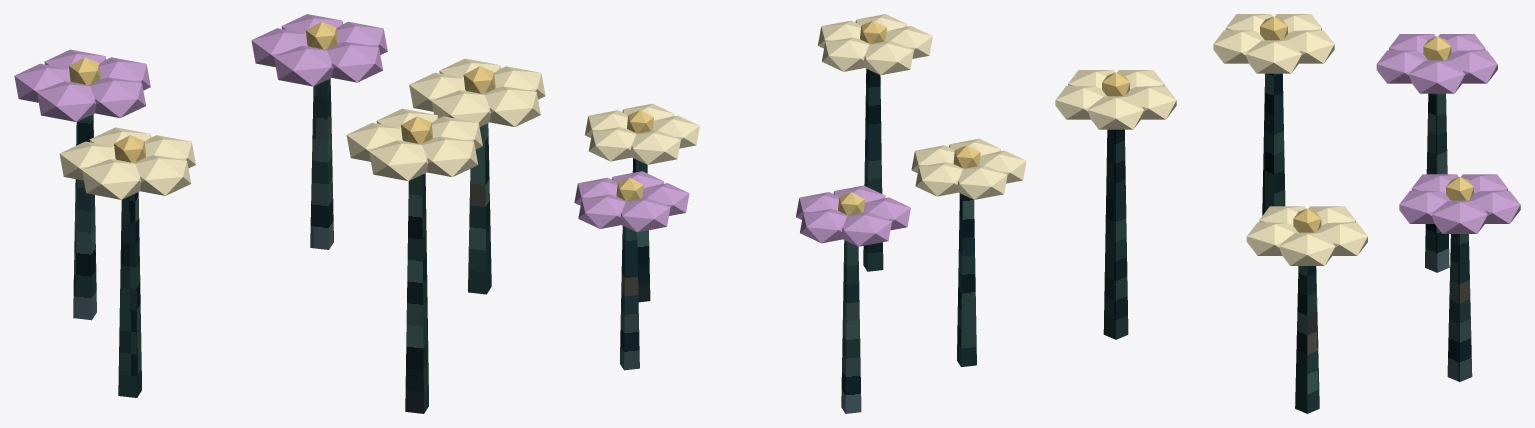
The model's file is enfeite_flores.fbx.
The picture shows the model from 3 angles, left to right: view 1: azimuth 30°, elevation 25°; view 2: azimuth 150°, elevation 25°; view 3: azimuth 270°, elevation 25°; orthographic projection. The views are drawn at different scales.
Parts seen in each view (by area): view 1: pedreira_enfeite_flores; view 2: pedreira_enfeite_flores; view 3: pedreira_enfeite_flores.
Part boxes in pixels (<box>): pedreira_enfeite_flores: <box>14,14,545,413</box>; pedreira_enfeite_flores: <box>574,14,1026,413</box>; pedreira_enfeite_flores: <box>1055,14,1520,413</box>.
Bounding box in the file's own units: 36.6 × 21.1 × 33.9.
Materials: 4 (1 with a texture image).
